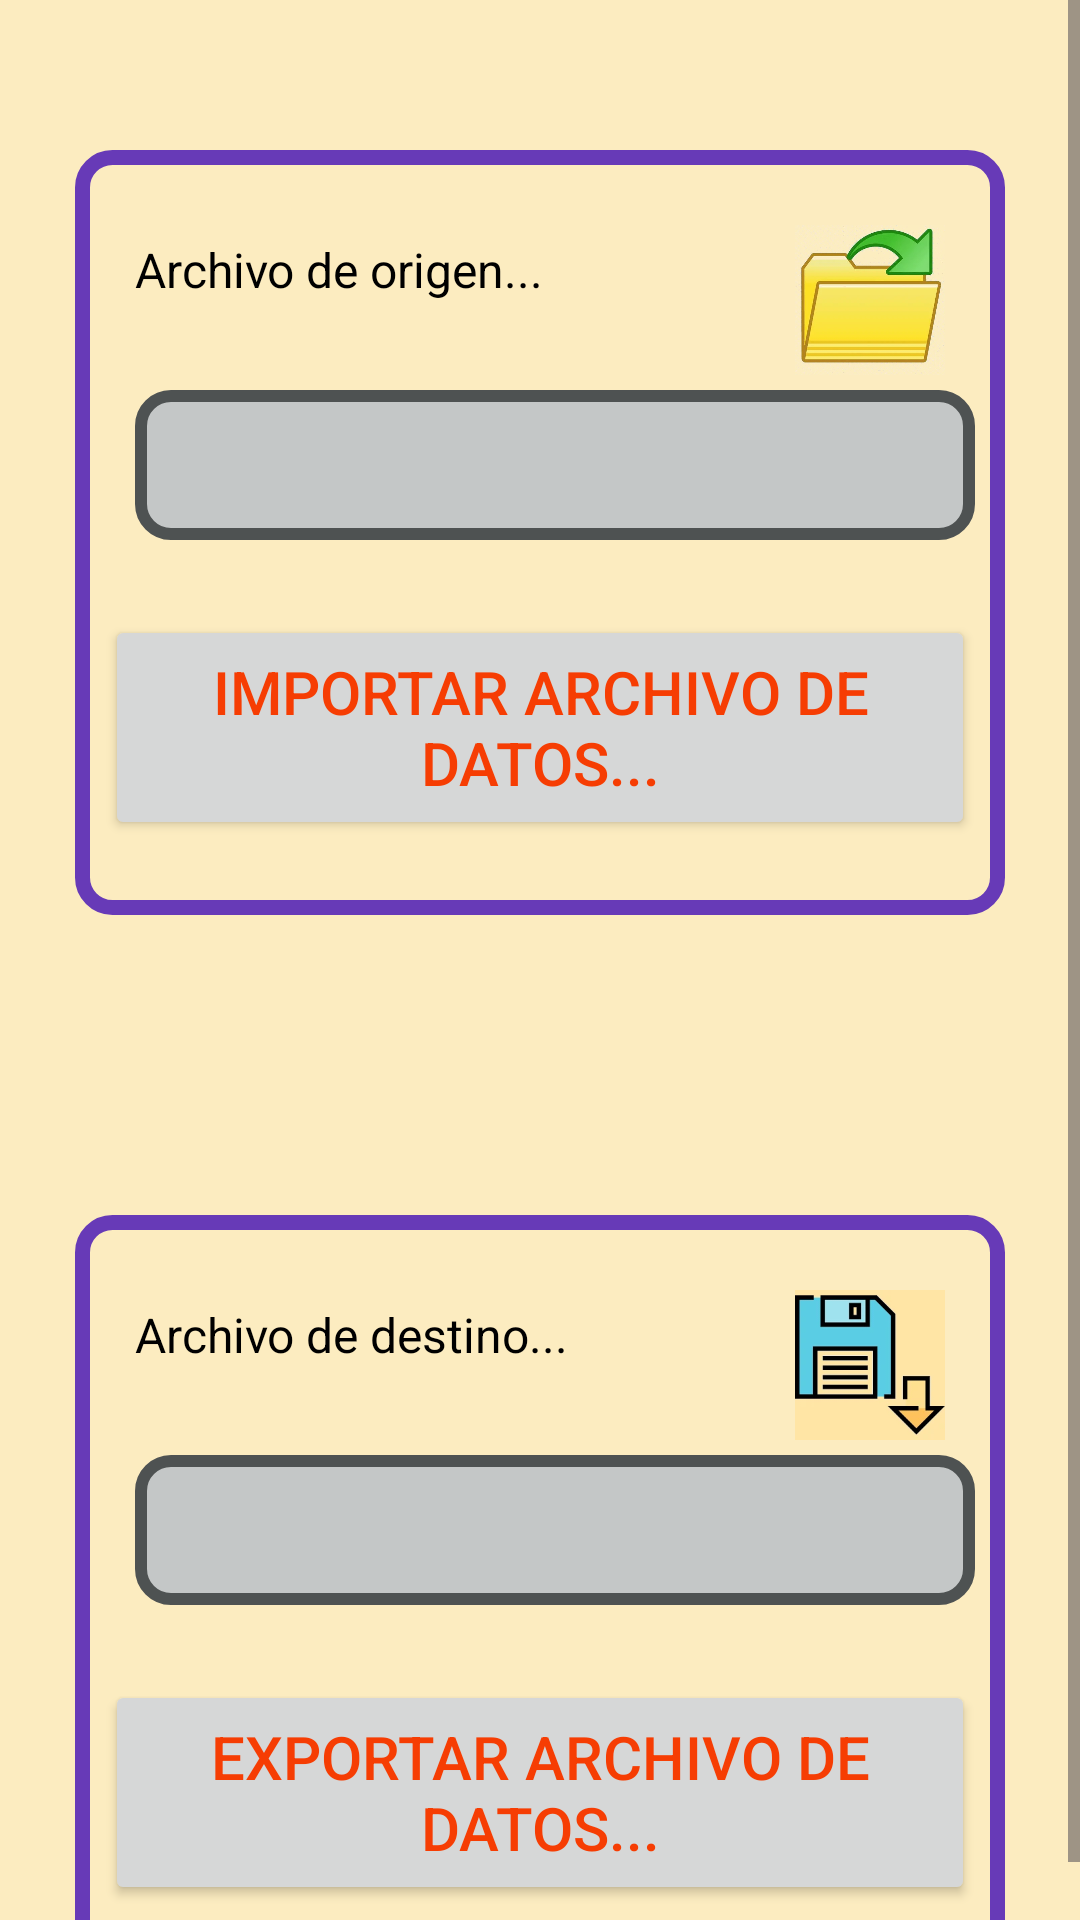

Icons on this 1080×1920 Android screen, each with its box as (x1, y1, x2, y2):
abrir: (801, 228, 941, 363)
guardar: (795, 1290, 945, 1440)
